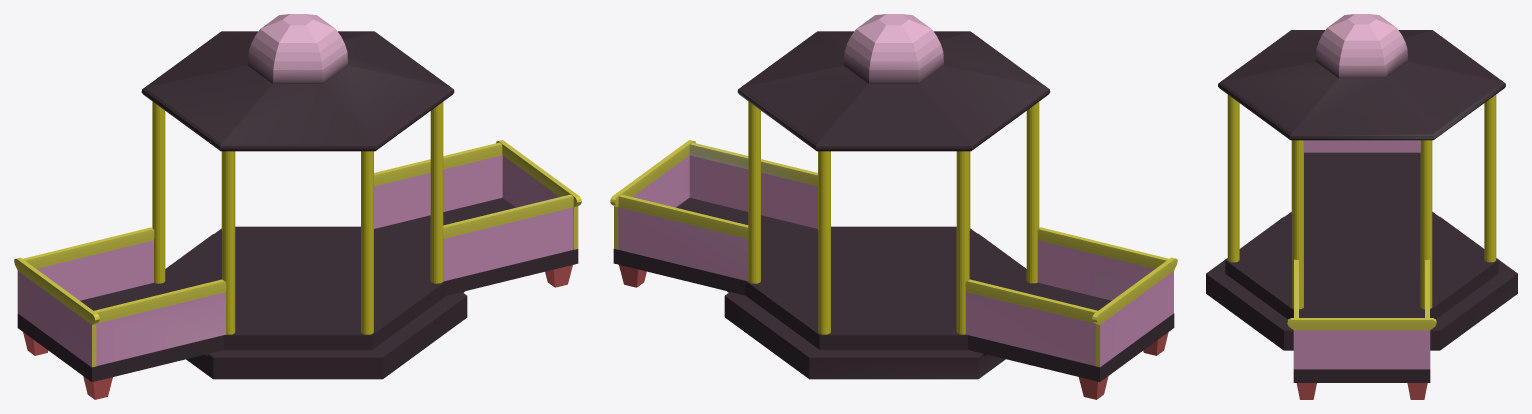
The model's file is coreto.fbx.
3 renders of one model, left to right at view 1: azimuth 30°, elevation 25°; view 2: azimuth 150°, elevation 25°; view 3: azimuth 270°, elevation 25°, orthographic. The views are drawn at different scales.
Visible parts, largest first — view 1: coreto; view 2: coreto; view 3: coreto.
Boxes of the visible parts, x1,y1,x2,y2 form: coreto: [14, 14, 581, 399]; coreto: [610, 14, 1177, 399]; coreto: [1206, 14, 1517, 399].
Bounding box in the file's own units: 483 × 283 × 291.
